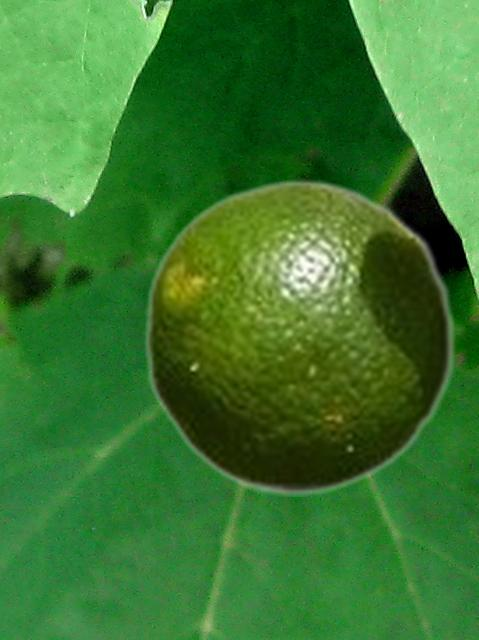calamansi: (142, 178, 456, 495)
